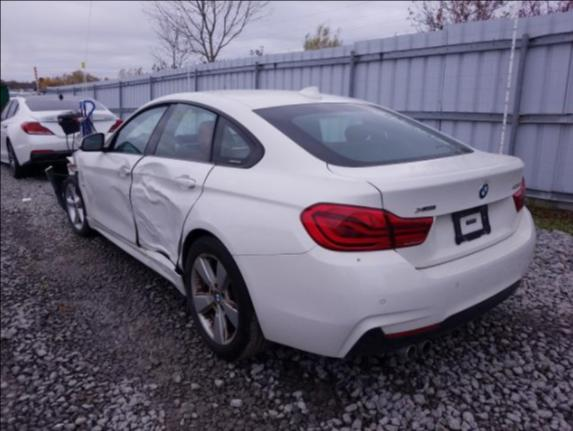Broken part: (129, 208, 191, 280), (153, 101, 222, 162), (48, 154, 76, 211)
Dent: (108, 156, 202, 277), (78, 153, 96, 213)
Missing part: (454, 204, 490, 245)
Paint chip: (351, 256, 368, 265)
Scratch: (154, 249, 173, 262)
